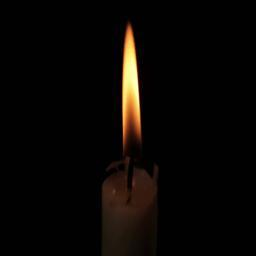fire: (121, 24, 142, 147)
